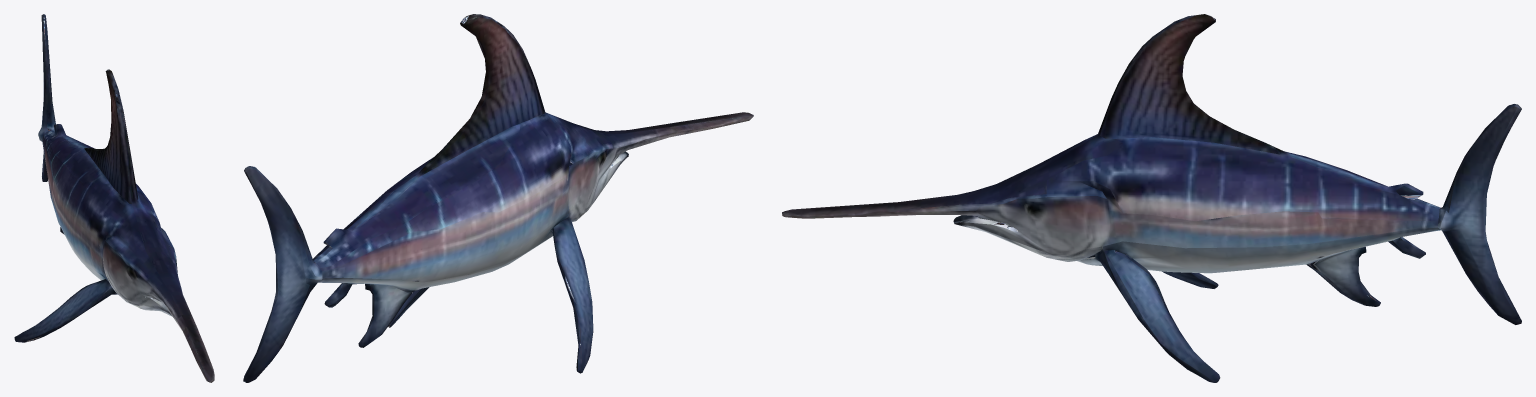
The model's file is 13_swordfish.glb.
3 renders of one model, left to right at view 1: azimuth 30°, elevation 25°; view 2: azimuth 150°, elevation 25°; view 3: azimuth 270°, elevation 25°, orthographic. The views are drawn at different scales.
Parts seen in each view (by area): view 1: geometry_0; view 2: geometry_0; view 3: geometry_0.
Part boxes in pixels (<box>): geometry_0: <box>14,14,214,382</box>; geometry_0: <box>243,14,753,382</box>; geometry_0: <box>782,14,1521,382</box>.
Size of the model in its own units: 0.3096 by 0.4976 by 1.
Materials: 1 (1 with a texture image).
